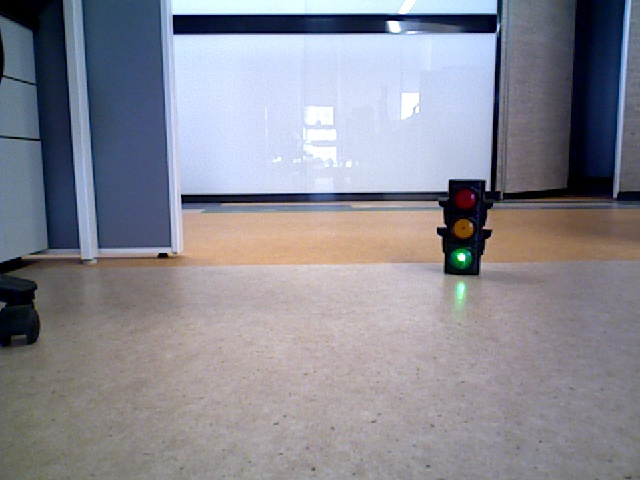green: (444, 182, 476, 268)
